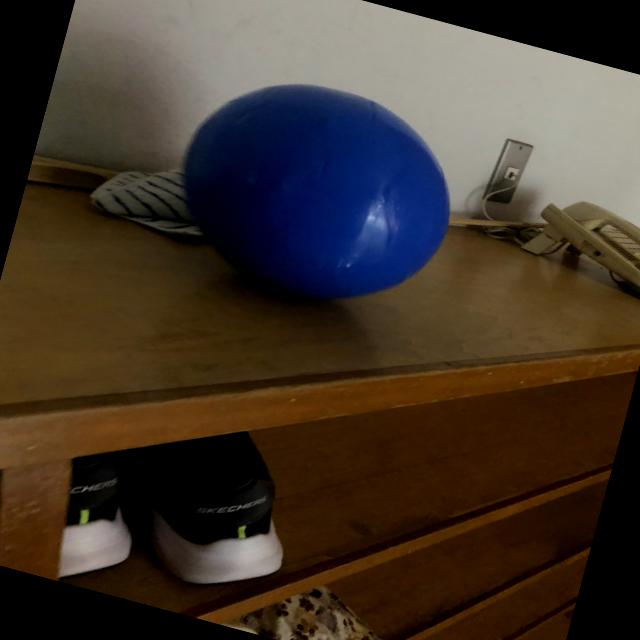blue_ball: (162, 58, 476, 330)
